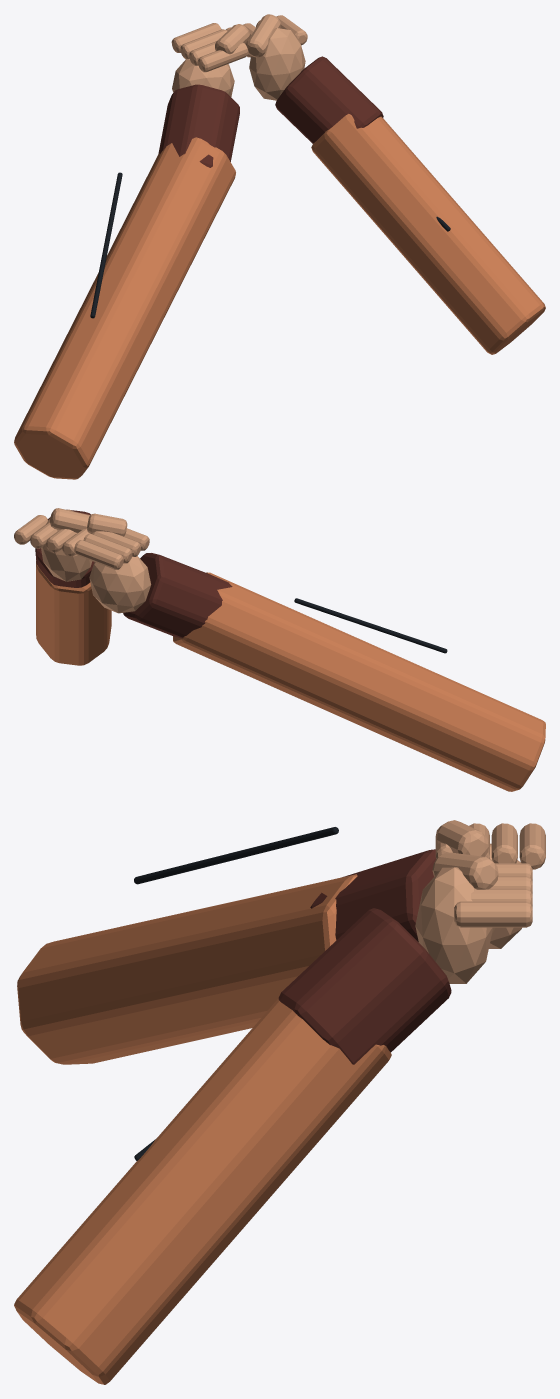
File: fps_arms.glb
3 views of the same model, one above another, from view 1: azimuth 30°, elevation 25°; view 2: azimuth 150°, elevation 25°; view 3: azimuth 270°, elevation 25° (orthographic). The views are drawn at different scales.
Visible parts, largest first — view 1: LeftSleeve, RightSleeve, RightCuff, LeftCuff, RightPalm, LeftPalm, RightThumb, SleeveSeamL, LeftFinger1, LeftThumb; view 2: LeftSleeve, RightSleeve, LeftCuff, LeftPalm, RightPalm, SleeveSeamL, LeftFinger4, RightThumb, LeftThumb, RightCuff, LeftFinger3, RightFinger4 (+3 smaller); view 3: RightSleeve, LeftSleeve, RightCuff, RightPalm, LeftCuff, RightFinger4, SleeveSeamL, RightThumb, LeftThumb, LeftFinger4, LeftFinger3, RightFinger3.
Boxes of the visible parts, box(x1,y1,x2,y2) form: LeftSleeve: box(14, 137, 235, 479); RightSleeve: box(311, 114, 545, 354); RightCuff: box(275, 56, 383, 143); LeftCuff: box(158, 84, 239, 167); RightPalm: box(249, 28, 305, 100); LeftPalm: box(172, 59, 234, 96); RightThumb: box(245, 14, 280, 57); SleeveSeamL: box(90, 172, 122, 318); LeftFinger1: box(198, 42, 248, 72); LeftThumb: box(215, 24, 249, 54); LeftSleeve: box(173, 572, 545, 791); RightSleeve: box(36, 560, 111, 665); LeftCuff: box(123, 553, 232, 637); LeftPalm: box(89, 556, 151, 613); RightPalm: box(41, 509, 92, 581); SleeveSeamL: box(294, 598, 447, 653); LeftFinger4: box(74, 540, 123, 569); RightThumb: box(50, 508, 90, 532); LeftThumb: box(87, 513, 127, 536); RightCuff: box(35, 509, 94, 587); LeftFinger3: box(83, 533, 132, 563); RightFinger4: box(14, 515, 48, 544); RightSleeve: box(14, 978, 391, 1384); LeftSleeve: box(17, 874, 357, 1064); RightCuff: box(278, 908, 451, 1064); RightPalm: box(415, 867, 492, 983); LeftCuff: box(310, 849, 435, 941); RightFinger4: box(454, 901, 532, 927); SleeveSeamL: box(134, 827, 338, 884); RightThumb: box(432, 852, 498, 889); LeftThumb: box(436, 820, 488, 856); LeftFinger4: box(519, 823, 545, 869); LeftFinger3: box(491, 823, 517, 863); RightFinger3: box(471, 888, 532, 906).
Size of the model in its own units: 0.8538 by 0.4617 by 0.4757.
